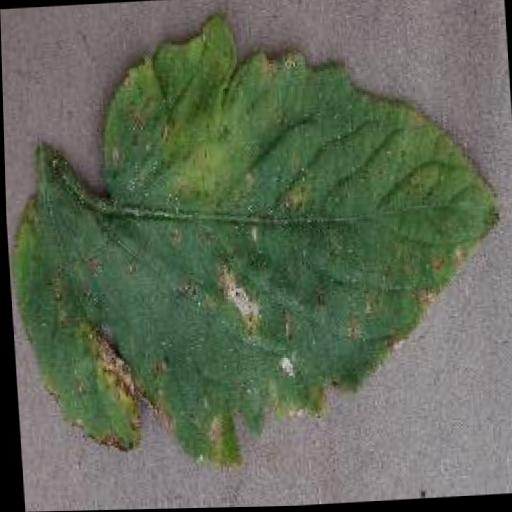Bacterial Spot: (0, 0, 512, 488)
